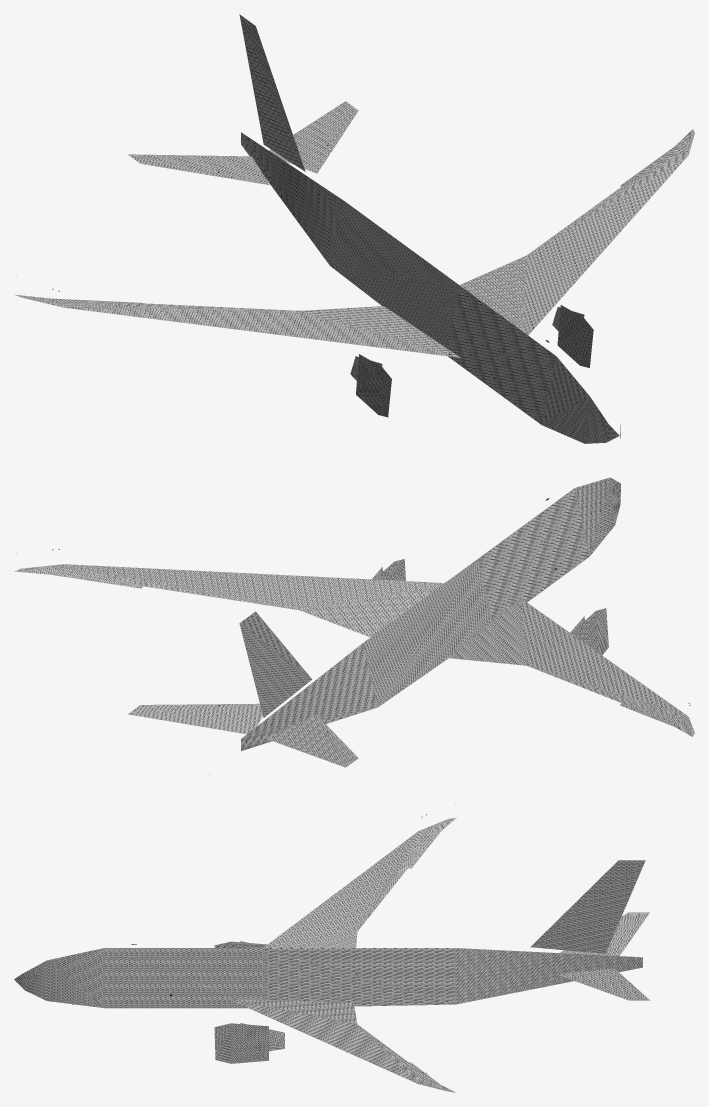
The model's file is TFS_B772RR_LOD1.gltf.
3 views of the same model, one above another, from view 1: azimuth 30°, elevation 25°; view 2: azimuth 150°, elevation 25°; view 3: azimuth 270°, elevation 25° (orthographic). The views are drawn at different scales.
Parts seen in each view (by area): view 1: low_poly_model; view 2: low_poly_model; view 3: low_poly_model.
Part boxes in pixels (x1,y1,x2,y2): low_poly_model: (15, 14, 694, 443); low_poly_model: (14, 477, 694, 767); low_poly_model: (14, 817, 649, 1092).
Bounding box in the file's own units: 65.39 × 17.6 × 68.44.
